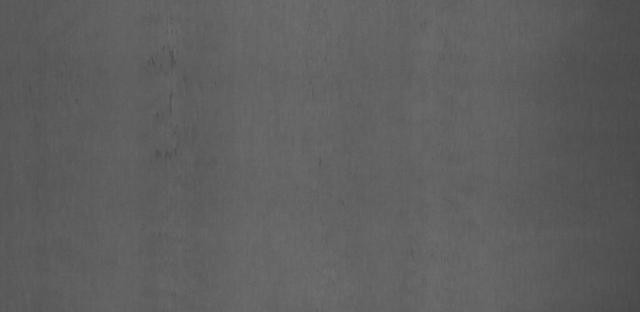silk_spot: (135, 45, 217, 172)
